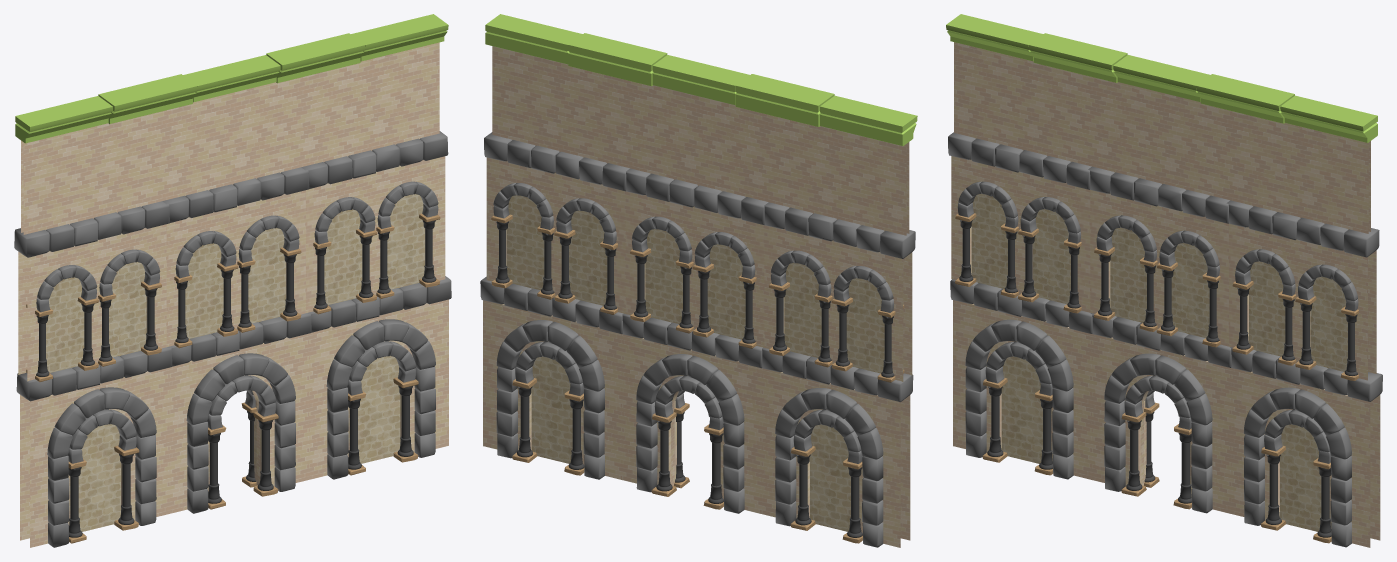
Rendered from SM_wall_large_03.fbx.
3 views of the same model, side by side, from view 1: azimuth 30°, elevation 25°; view 2: azimuth 150°, elevation 25°; view 3: azimuth 330°, elevation 25° (orthographic).
Visible parts, largest first — view 1: Object33221; view 2: Object33221; view 3: Object33221.
Boxes of the visible parts, box(x1,y1,x2,y2) form: Object33221: box(14, 14, 451, 547); Object33221: box(480, 14, 917, 547); Object33221: box(946, 14, 1382, 547).
Bounding box in the file's own units: 560 × 537 × 50.15.
